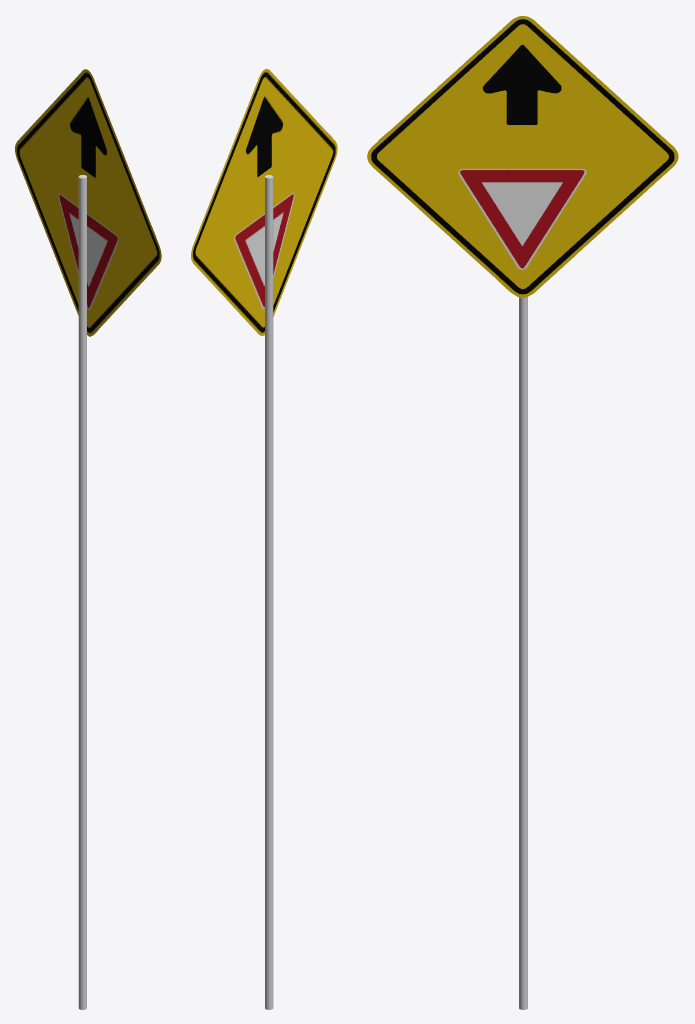
The model's file is beri-laluan.fbx.
3 views of the same model, side by side, from view 1: azimuth 30°, elevation 25°; view 2: azimuth 150°, elevation 25°; view 3: azimuth 270°, elevation 25° (orthographic). The views are drawn at different scales.
Visible parts, largest first — view 1: beri-laluan, Cylinder; view 2: beri-laluan, Cylinder; view 3: beri-laluan, Cylinder.
Part boxes in pixels (box(x1,y1,x2,y2)): beri-laluan: box(15, 69, 161, 336); Cylinder: box(78, 175, 86, 1009); beri-laluan: box(191, 69, 337, 335); Cylinder: box(265, 175, 273, 1009); beri-laluan: box(367, 16, 678, 297); Cylinder: box(519, 297, 527, 1009).
Size of the model in its own units: 3.43 by 350 by 100.
